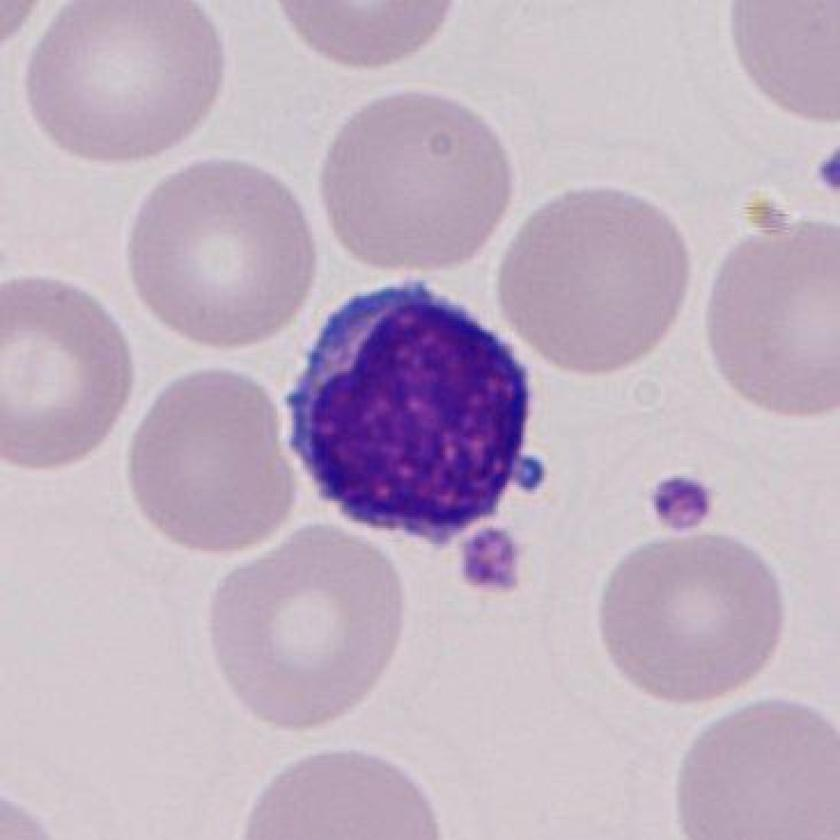lymphocyte: (272, 272, 556, 568)
